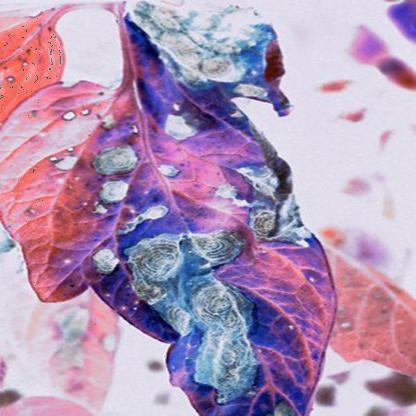potato leaf early blight: (4, 12, 345, 416)
